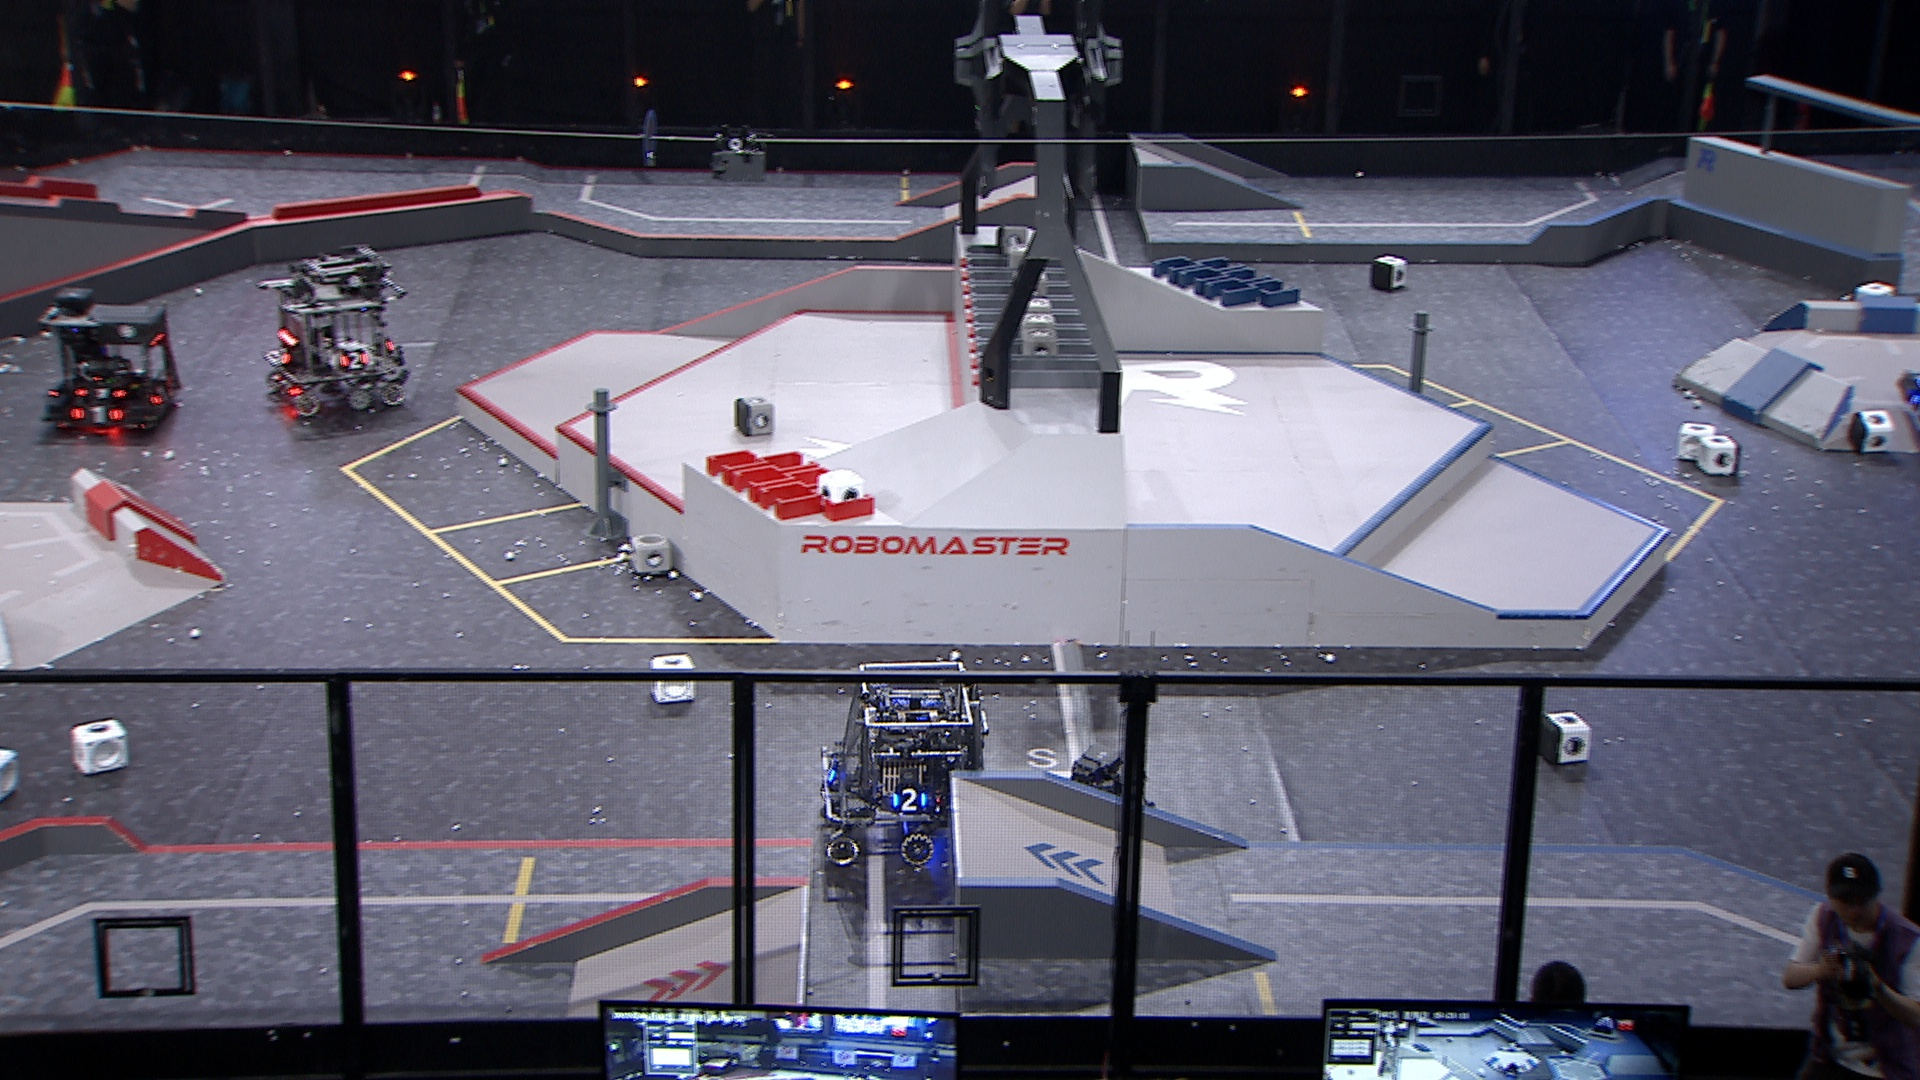armor: (889, 785, 930, 815), (69, 406, 128, 425), (74, 385, 129, 400), (150, 381, 177, 407), (339, 349, 371, 371), (823, 760, 841, 785), (272, 345, 291, 368)
car: (818, 659, 1000, 868), (257, 240, 411, 414), (38, 289, 185, 433), (1030, 745, 1162, 847)
